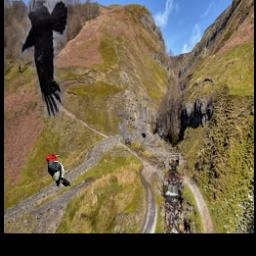Crow: (21, 0, 68, 119)
Woodpecker: (45, 153, 70, 186)
